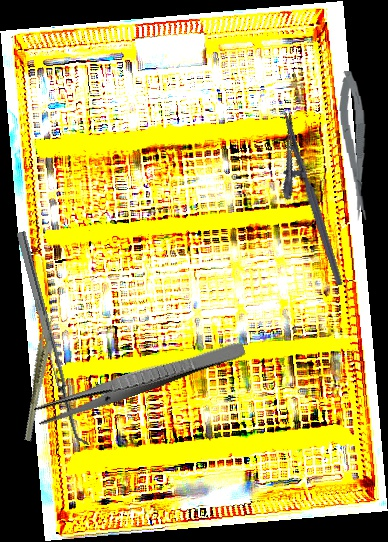Dressing Forceps: (33, 335, 247, 428)
Micro Scissor: (335, 70, 373, 222)
Needle Holder: (259, 111, 345, 294)
Spatula Surgical: (16, 228, 92, 449)
Tissue Forceps: (1, 312, 75, 443)
